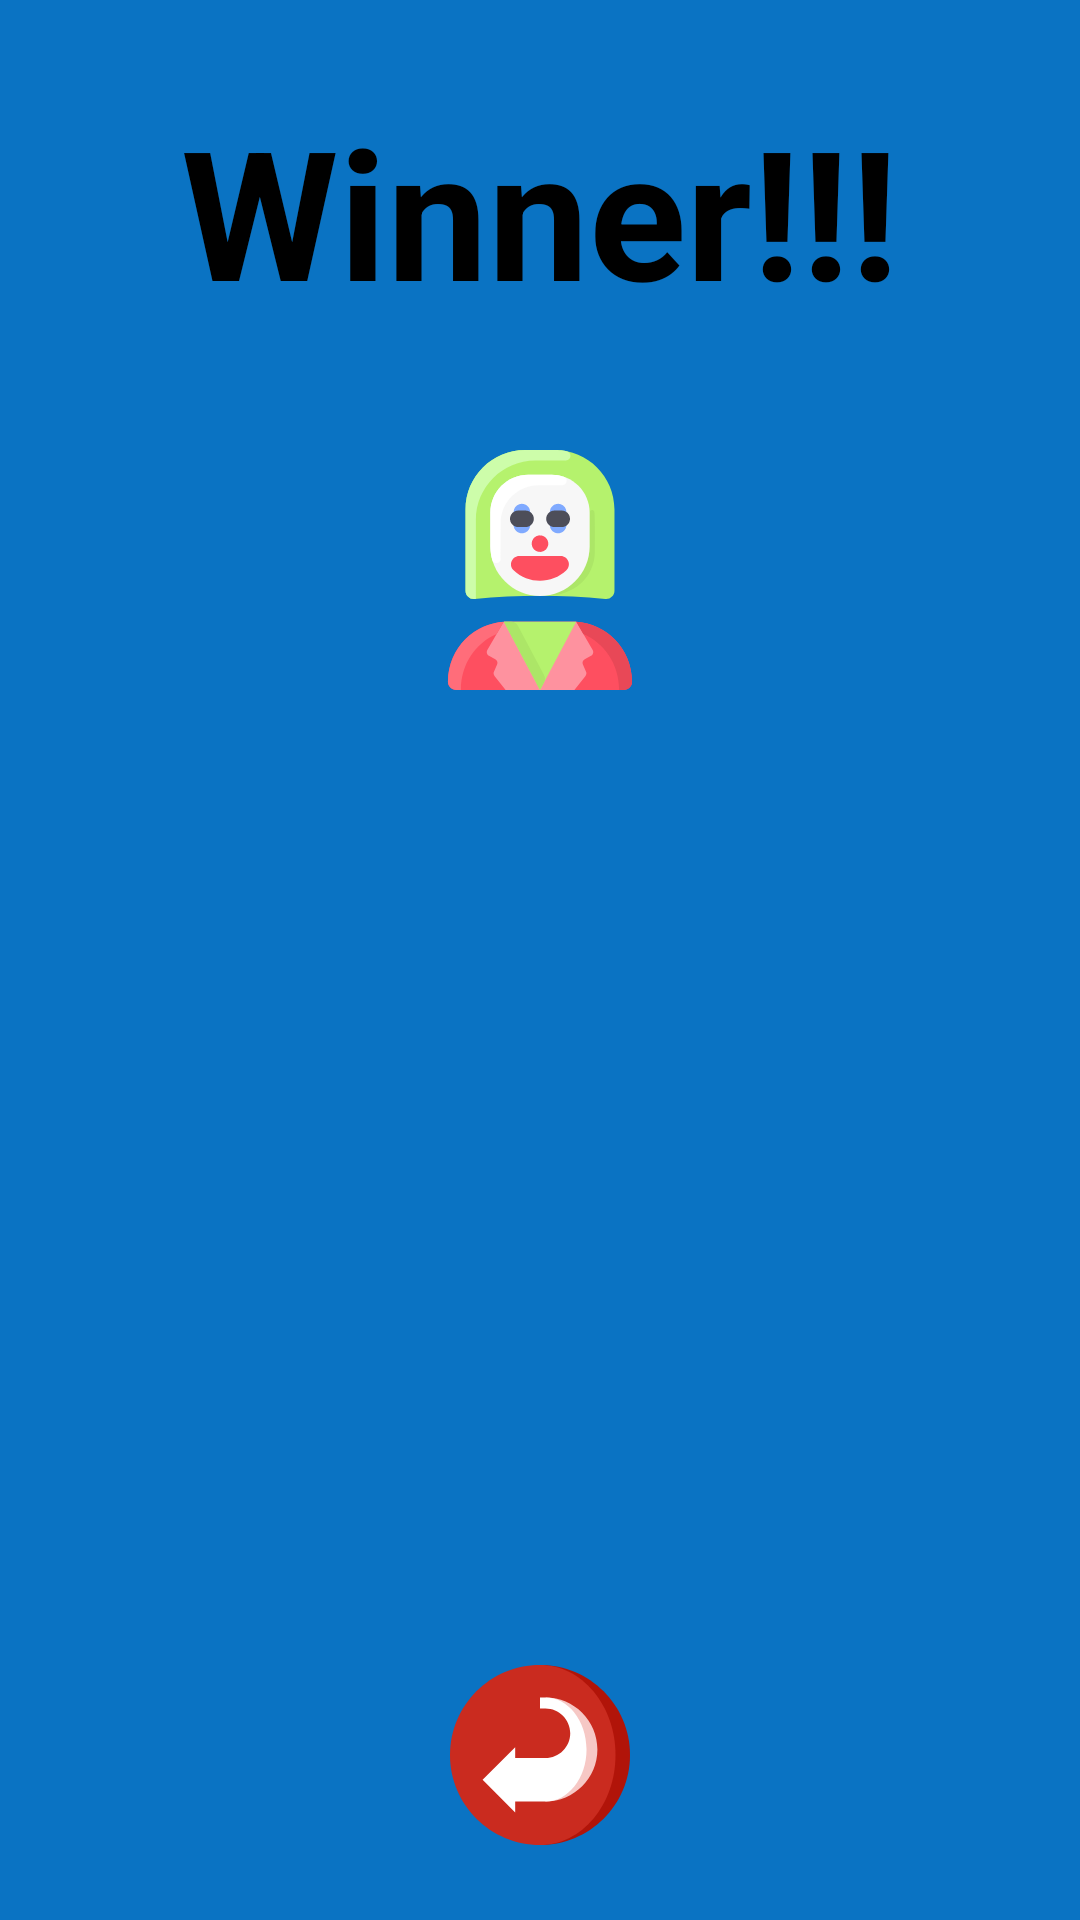

Icons on this 1080 x 1920 Android screen, each with its box as box=[x1, y1, x2, y2]:
back: box=[450, 1665, 630, 1845]
